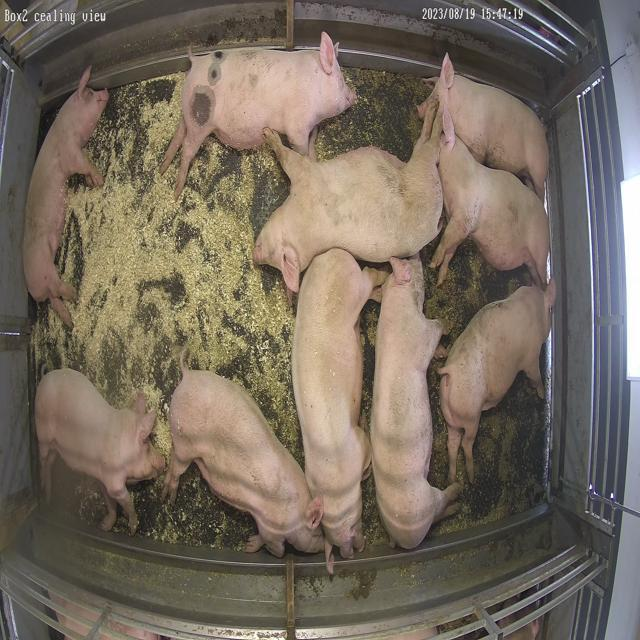Dirt: (431, 375, 549, 536), (424, 241, 532, 350), (316, 67, 432, 160), (428, 359, 449, 490), (362, 303, 380, 426), (363, 476, 388, 545)
Pig: (254, 104, 444, 292), (163, 350, 324, 558), (160, 32, 357, 198), (292, 249, 388, 576), (371, 255, 462, 550), (440, 284, 556, 482), (22, 66, 108, 326), (35, 369, 165, 534), (428, 106, 547, 283), (419, 53, 550, 198)
